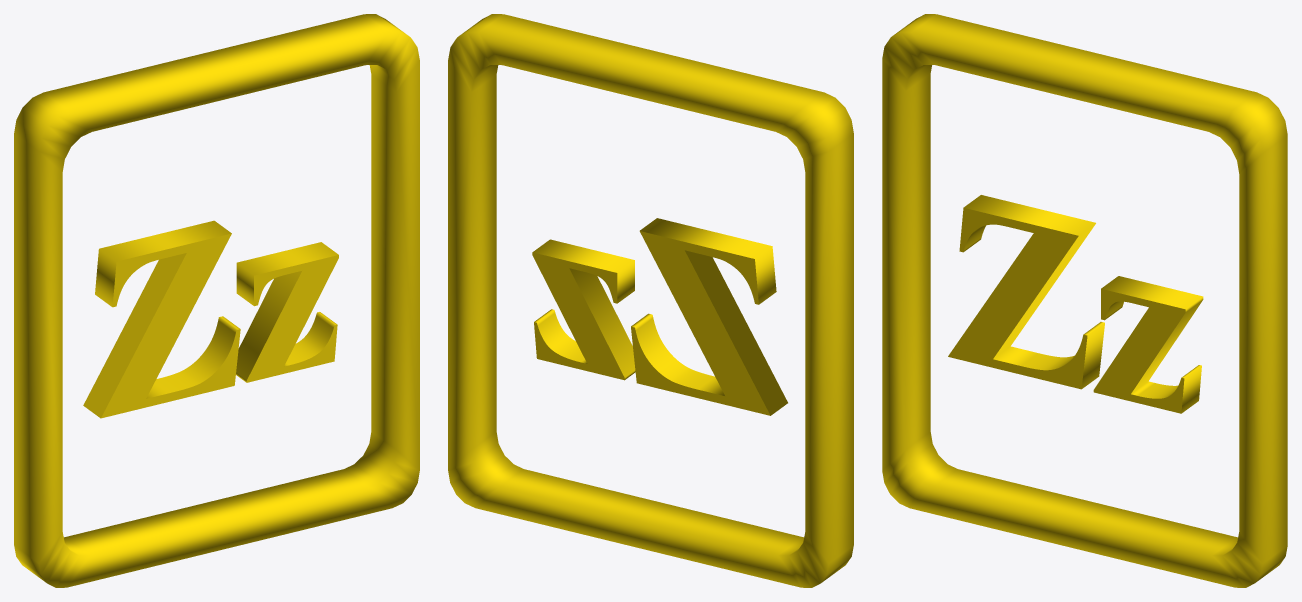
Rendered from Letter_Z.gltf.
3 views of the same model, side by side, from view 1: azimuth 30°, elevation 25°; view 2: azimuth 150°, elevation 25°; view 3: azimuth 330°, elevation 25° (orthographic).
Parts seen in each view (by area): view 1: Letters.001; view 2: Letters.001; view 3: Letters.001.
Part boxes in pixels (box(x1,y1,x2,y2)): Letters.001: box(14, 14, 419, 587); Letters.001: box(448, 14, 853, 587); Letters.001: box(882, 14, 1287, 587).
Size of the model in its own units: 1.25 by 1.49 by 0.1418.
